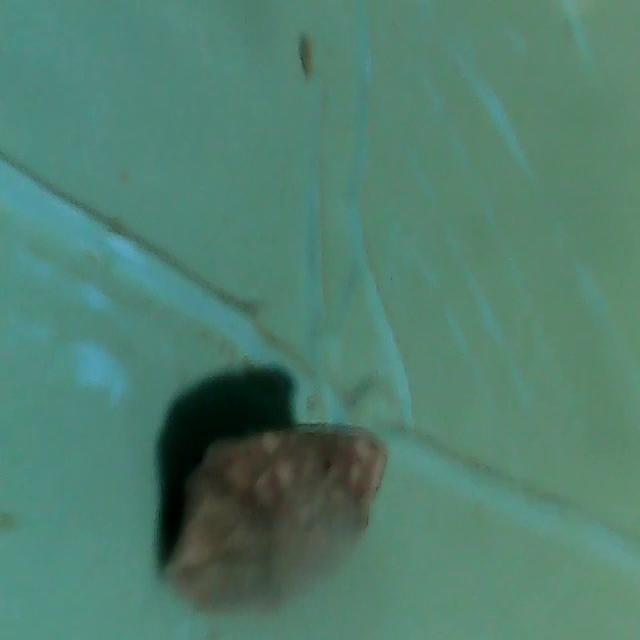rock: (150, 411, 388, 616)
